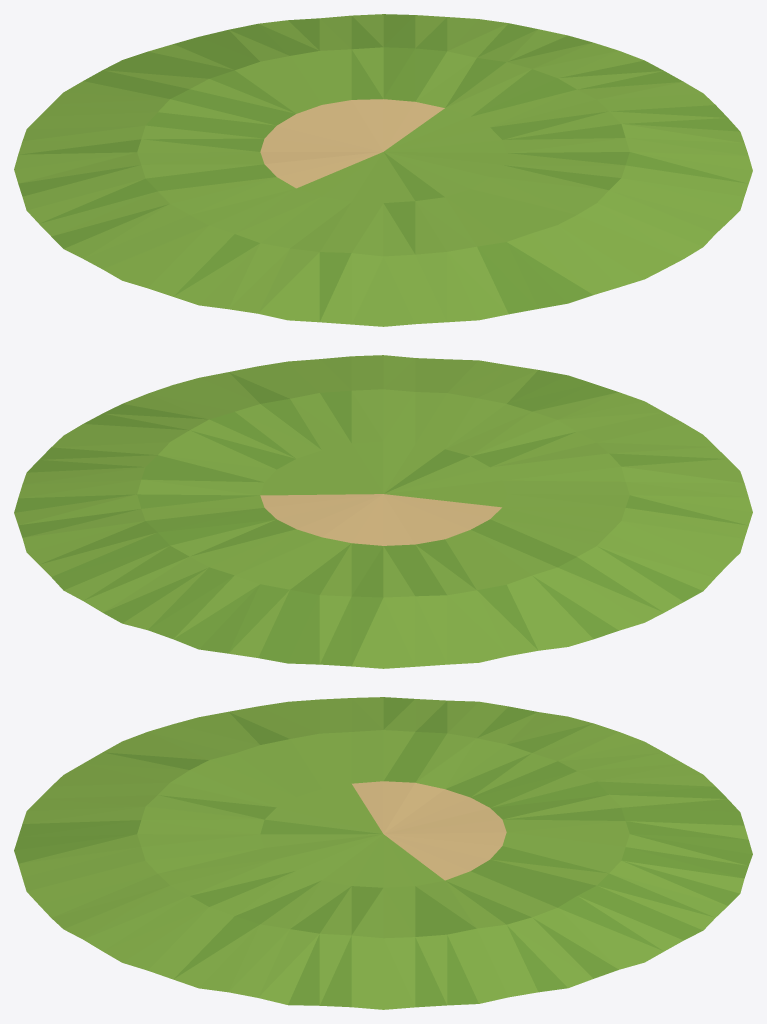
Rendered from menu_ground.glb.
3 views of the same model, one above another, from view 1: azimuth 30°, elevation 25°; view 2: azimuth 150°, elevation 25°; view 3: azimuth 270°, elevation 25° (orthographic).
Visible parts, largest first — view 1: MenuGround; view 2: MenuGround; view 3: MenuGround.
Part boxes in pixels (bbox=[...]): MenuGround: bbox=[14, 14, 752, 326]; MenuGround: bbox=[14, 355, 752, 668]; MenuGround: bbox=[14, 697, 752, 1009].
Size of the model in its own units: 18 by 0.5928 by 18.
